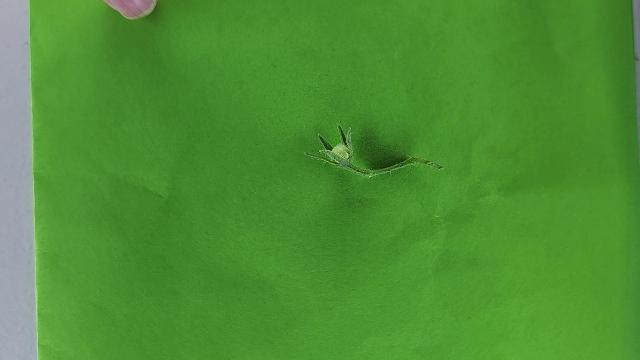Fruit Bud: (302, 124, 357, 169)
